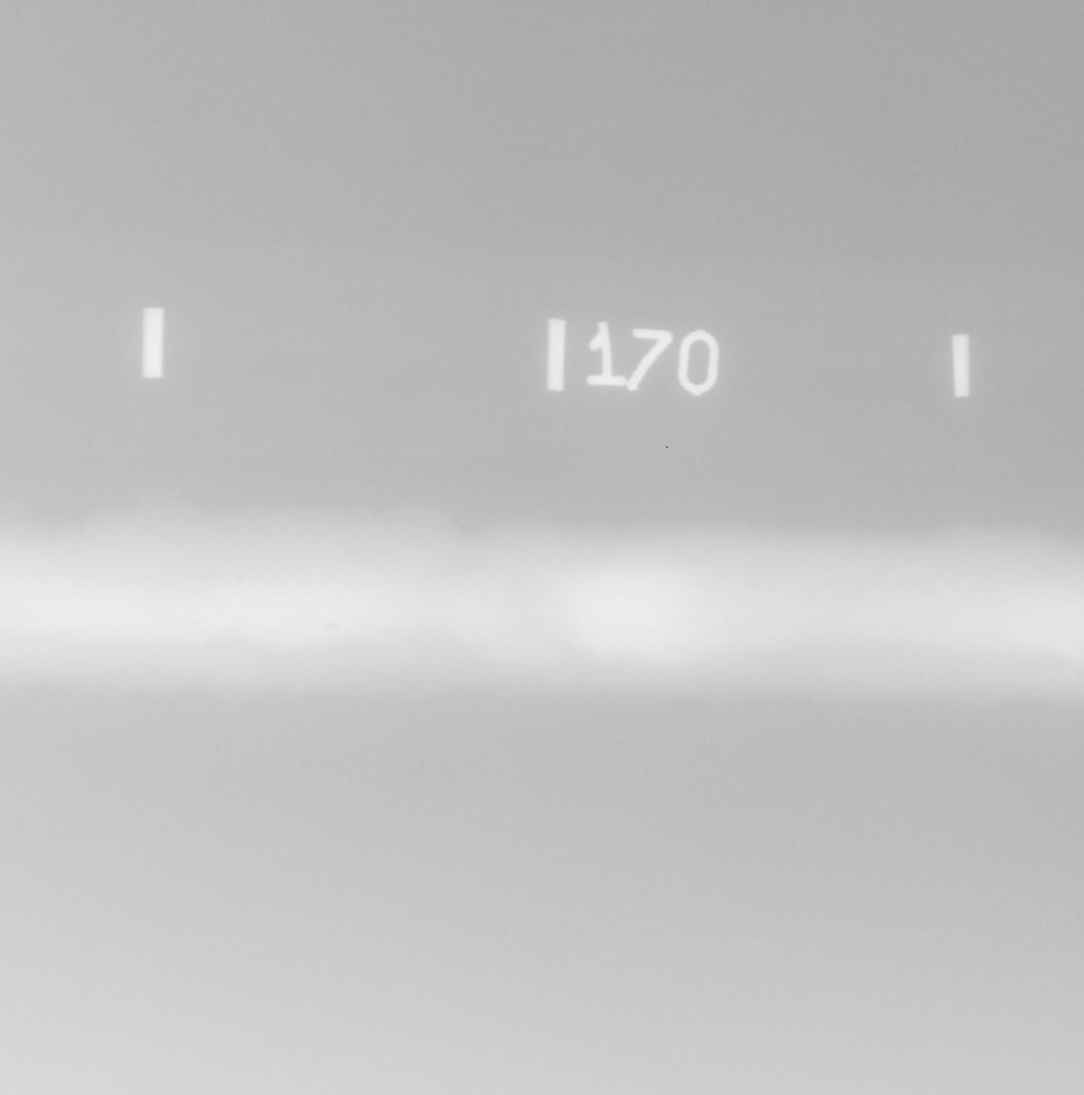Pore/Porosity: (327, 622, 339, 629), (235, 575, 244, 583)
